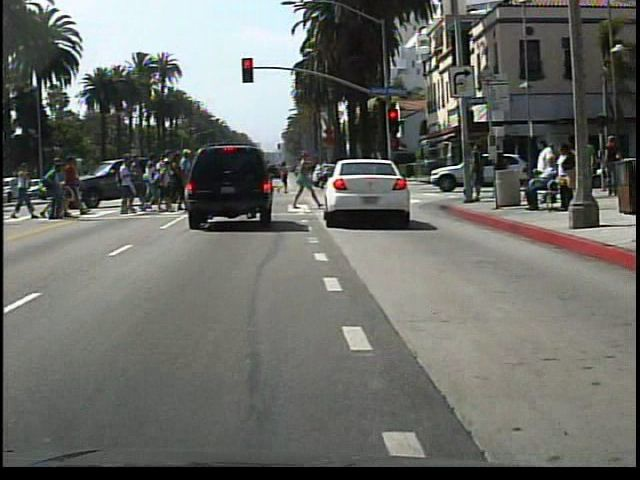person: (521, 154, 562, 216), (289, 147, 321, 213), (550, 139, 577, 211)
